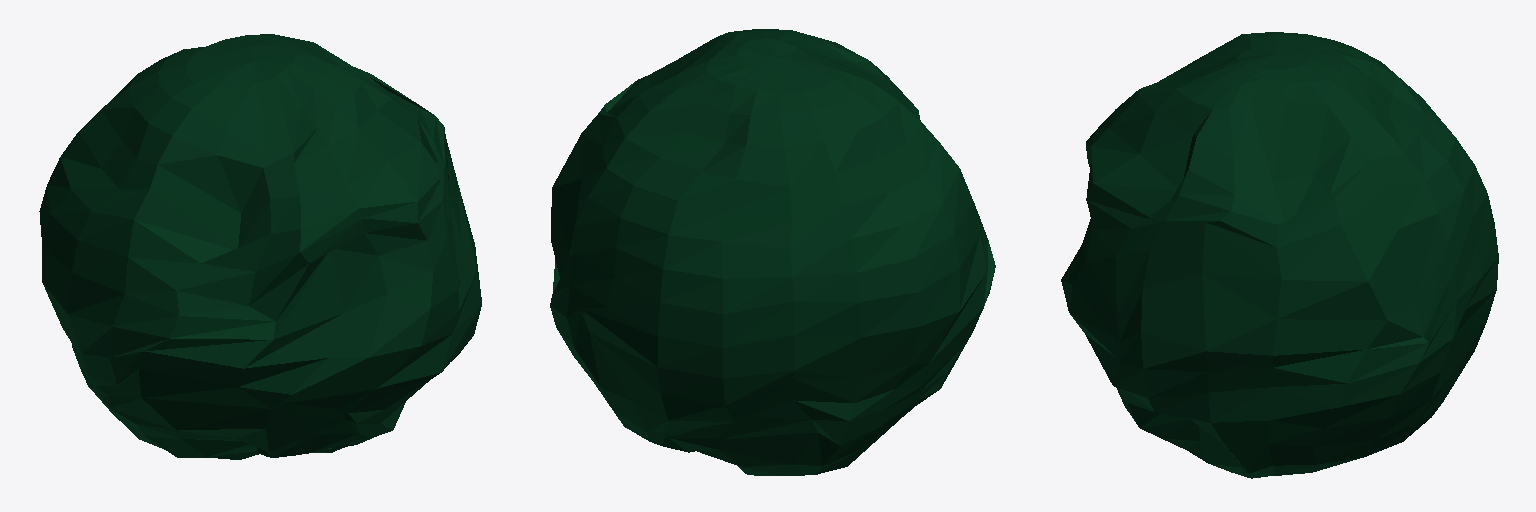
Rendered from ball3.obj.
3 renders of one model, left to right at view 1: azimuth 30°, elevation 25°; view 2: azimuth 150°, elevation 25°; view 3: azimuth 270°, elevation 25°, orthographic.
Parts seen in each view (by area): view 1: pSphere1; view 2: pSphere1; view 3: pSphere1.
Boxes of the visible parts, x1=… form: pSphere1: x1=39, y1=34, x2=481, y2=459; pSphere1: x1=550, y1=29, x2=995, y2=475; pSphere1: x1=1061, y1=32, x2=1498, y2=478.
Bounding box in the file's own units: 5.3 × 5.36 × 5.29.